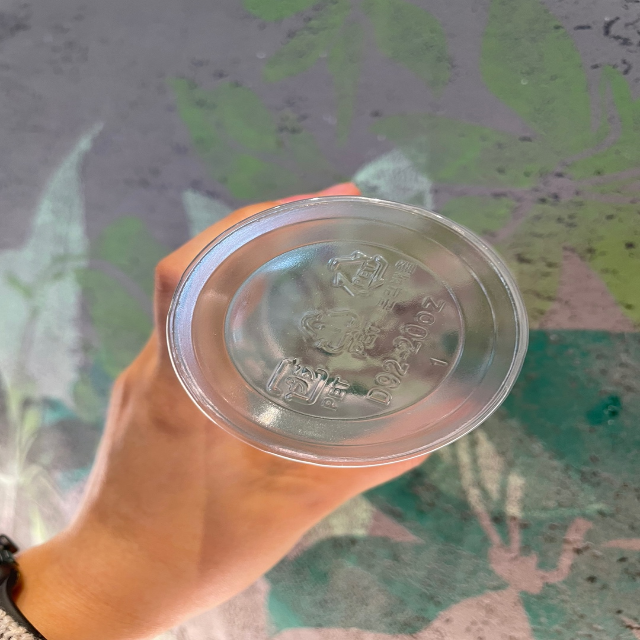pet: (323, 246, 417, 315), (260, 355, 351, 422), (297, 304, 384, 364)
